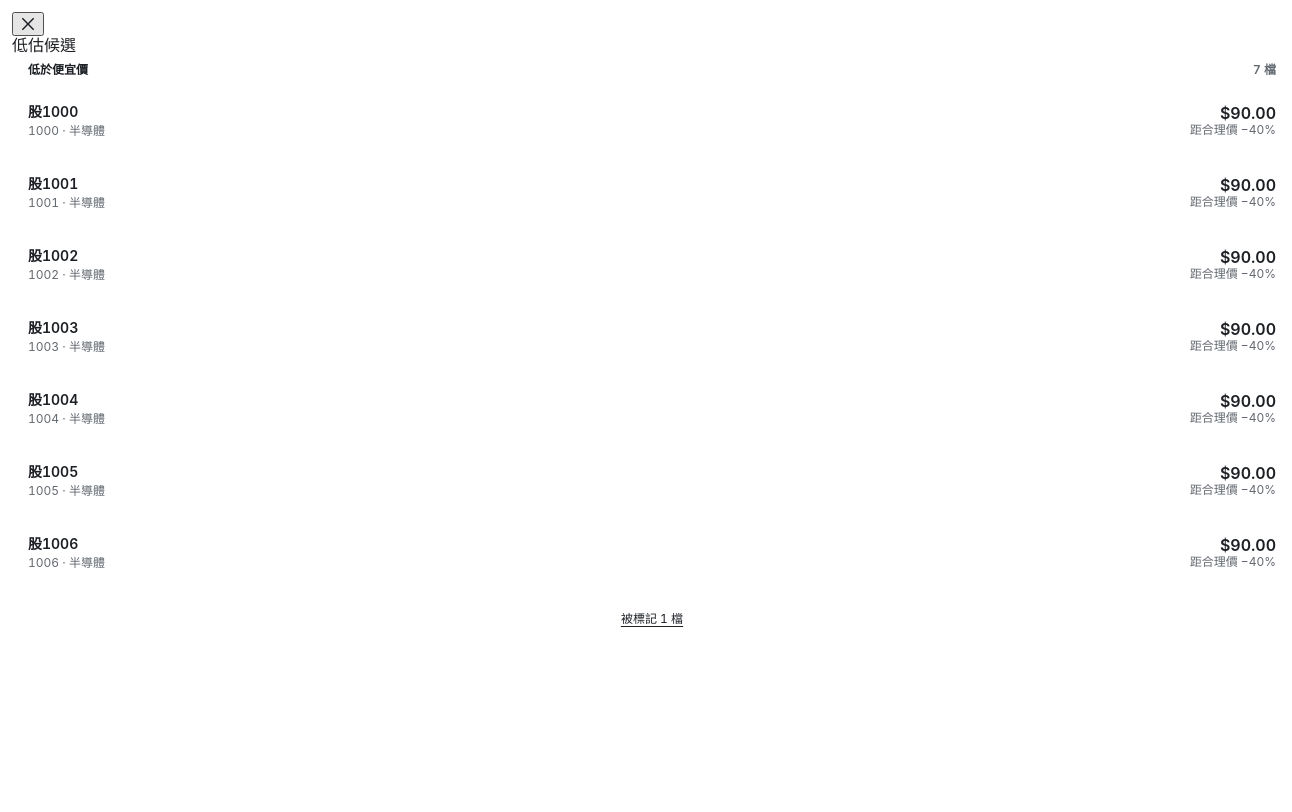
Test: ScreenListSheet › lists every row and folds the flagged ones
This screenshot has width=1292, height=812.
Expected: the text "股1006" is shown, [28,535,78,552]
Expected: the text "股3000" is not shown
Click the button "被標記 1 檔" at (652, 619), box [621,597,683,641]
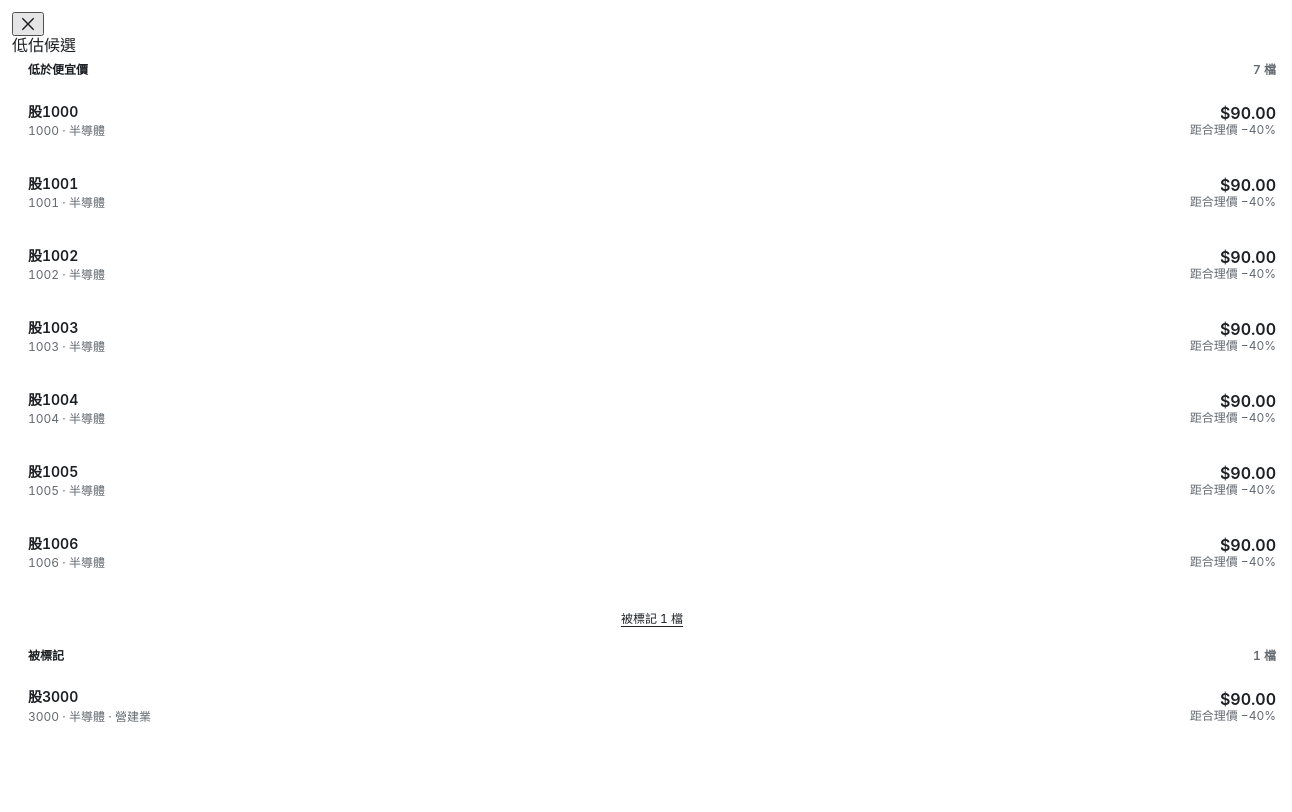
Result: the text "3000 · 半導體 · 營建業" is shown at [28,708,151,724]
